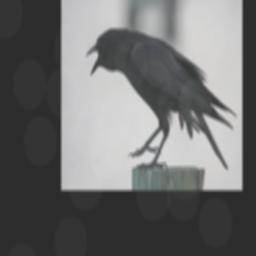Crow: (85, 27, 237, 171)
